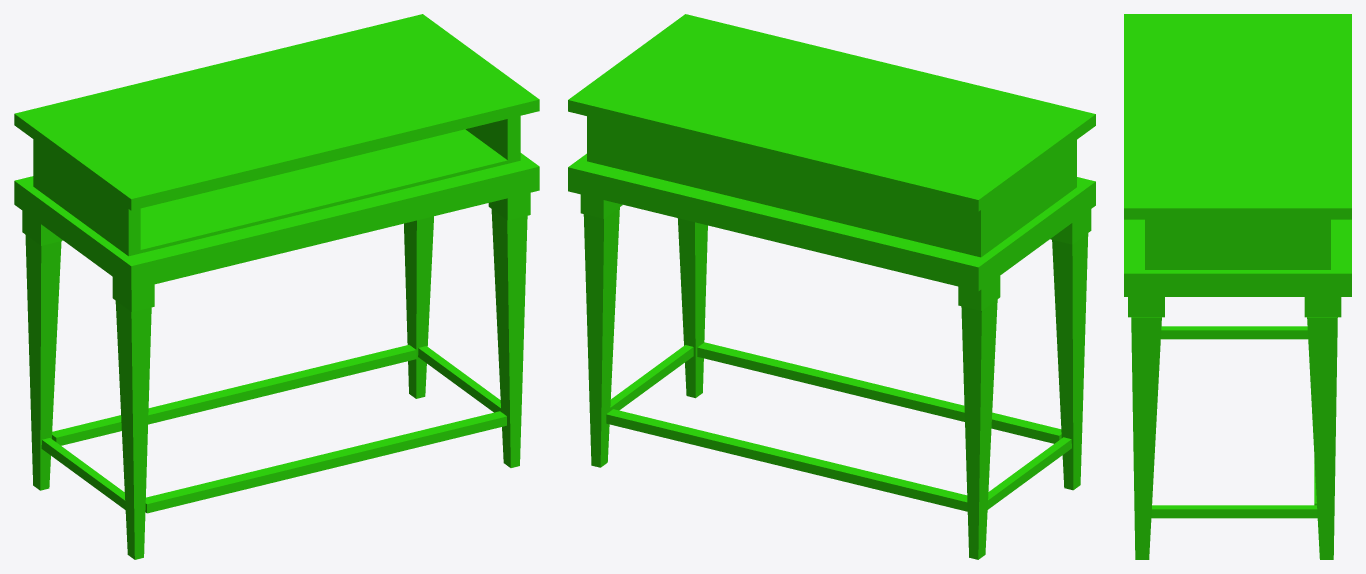
File: Cupboard_12_Lod0.fbx
The picture shows the model from 3 angles, left to right: view 1: azimuth 30°, elevation 25°; view 2: azimuth 150°, elevation 25°; view 3: azimuth 270°, elevation 25°; orthographic projection. The views are drawn at different scales.
Visible parts, largest first — view 1: Cupboard_12_Lod0; view 2: Cupboard_12_Lod0; view 3: Cupboard_12_Lod0.
Part boxes in pixels (box(x1,y1,x2,y2)): Cupboard_12_Lod0: box(14, 14, 539, 559); Cupboard_12_Lod0: box(568, 14, 1095, 559); Cupboard_12_Lod0: box(1124, 14, 1351, 559).
Size of the model in its own units: 99.37 by 85.38 by 49.24.
